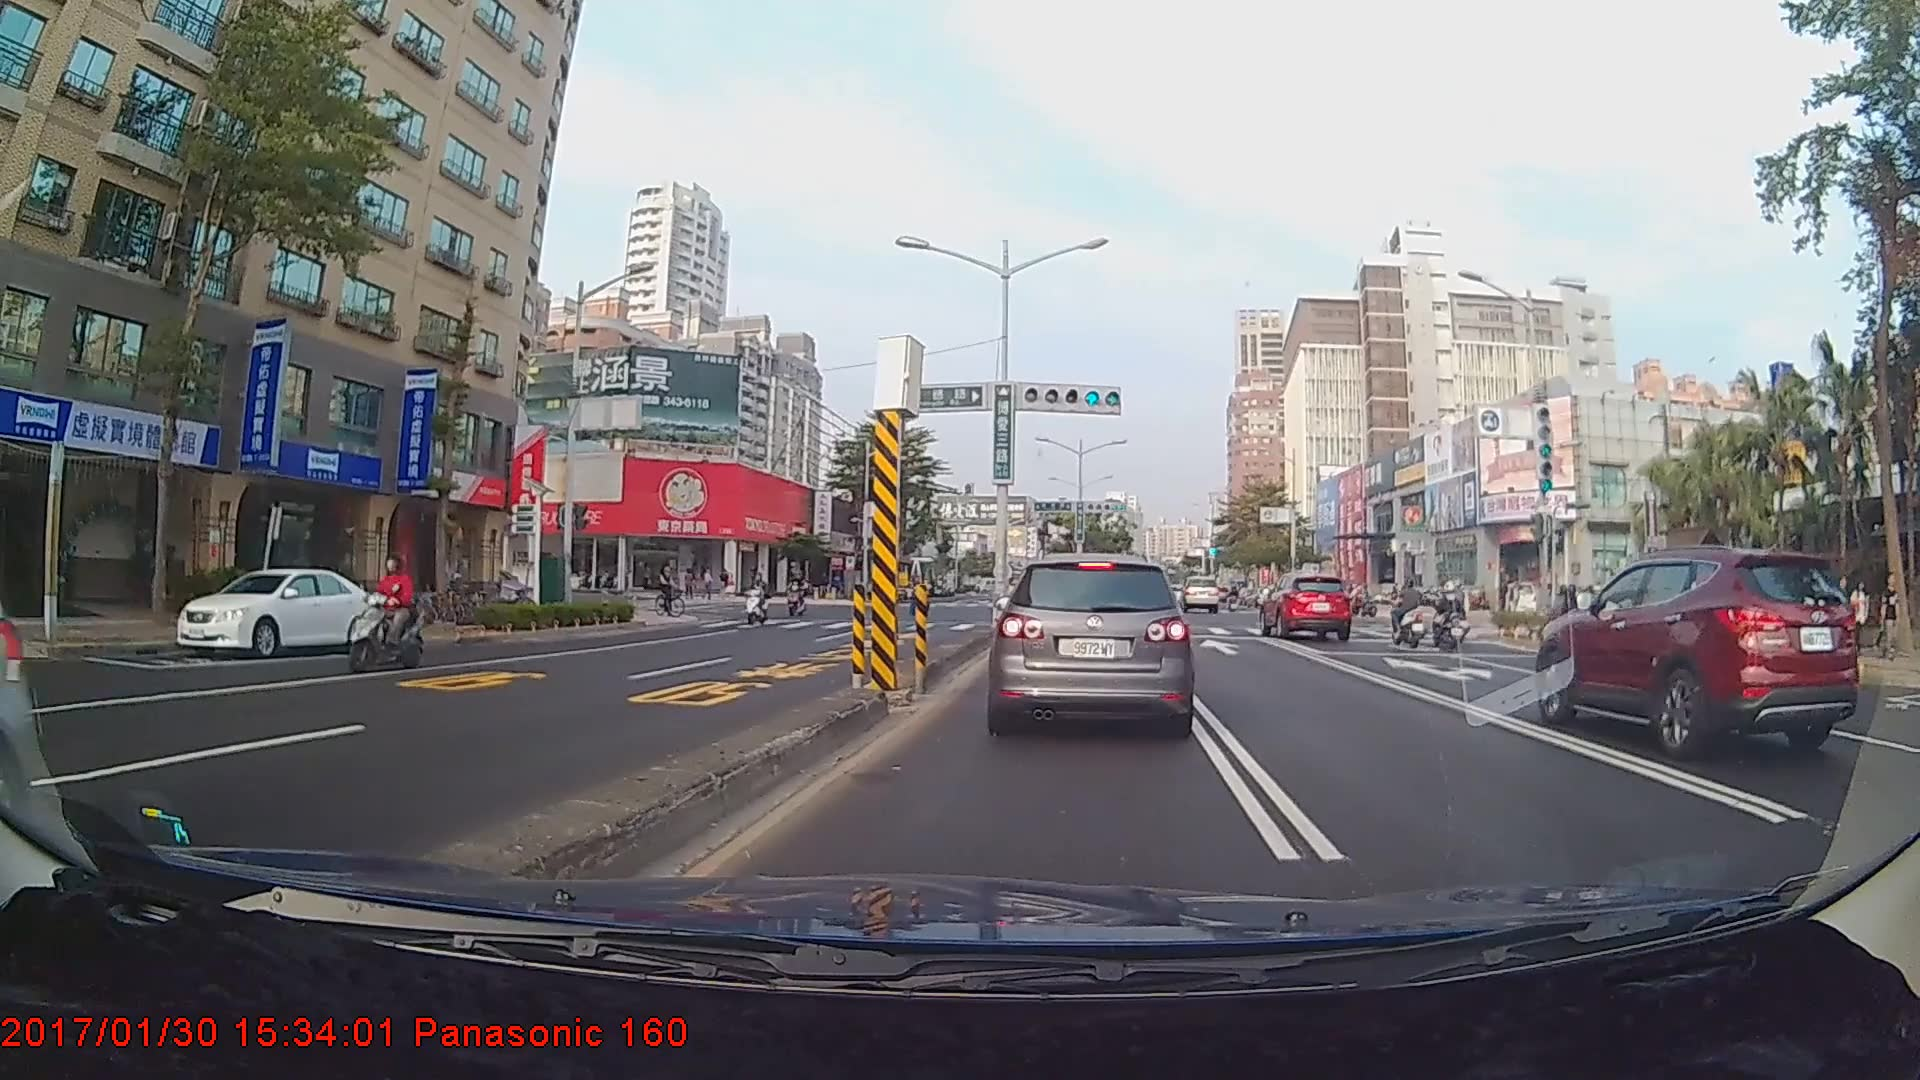pedestrian: (1880, 570, 1905, 661), (1848, 581, 1872, 650)
rider: (343, 551, 427, 678), (1381, 580, 1435, 654), (1424, 583, 1473, 651), (649, 562, 689, 624), (743, 572, 779, 631), (785, 568, 812, 621)
vehicle: (1533, 547, 1862, 758), (992, 550, 1192, 734), (174, 565, 381, 657), (1260, 569, 1355, 641), (1179, 573, 1220, 612)
